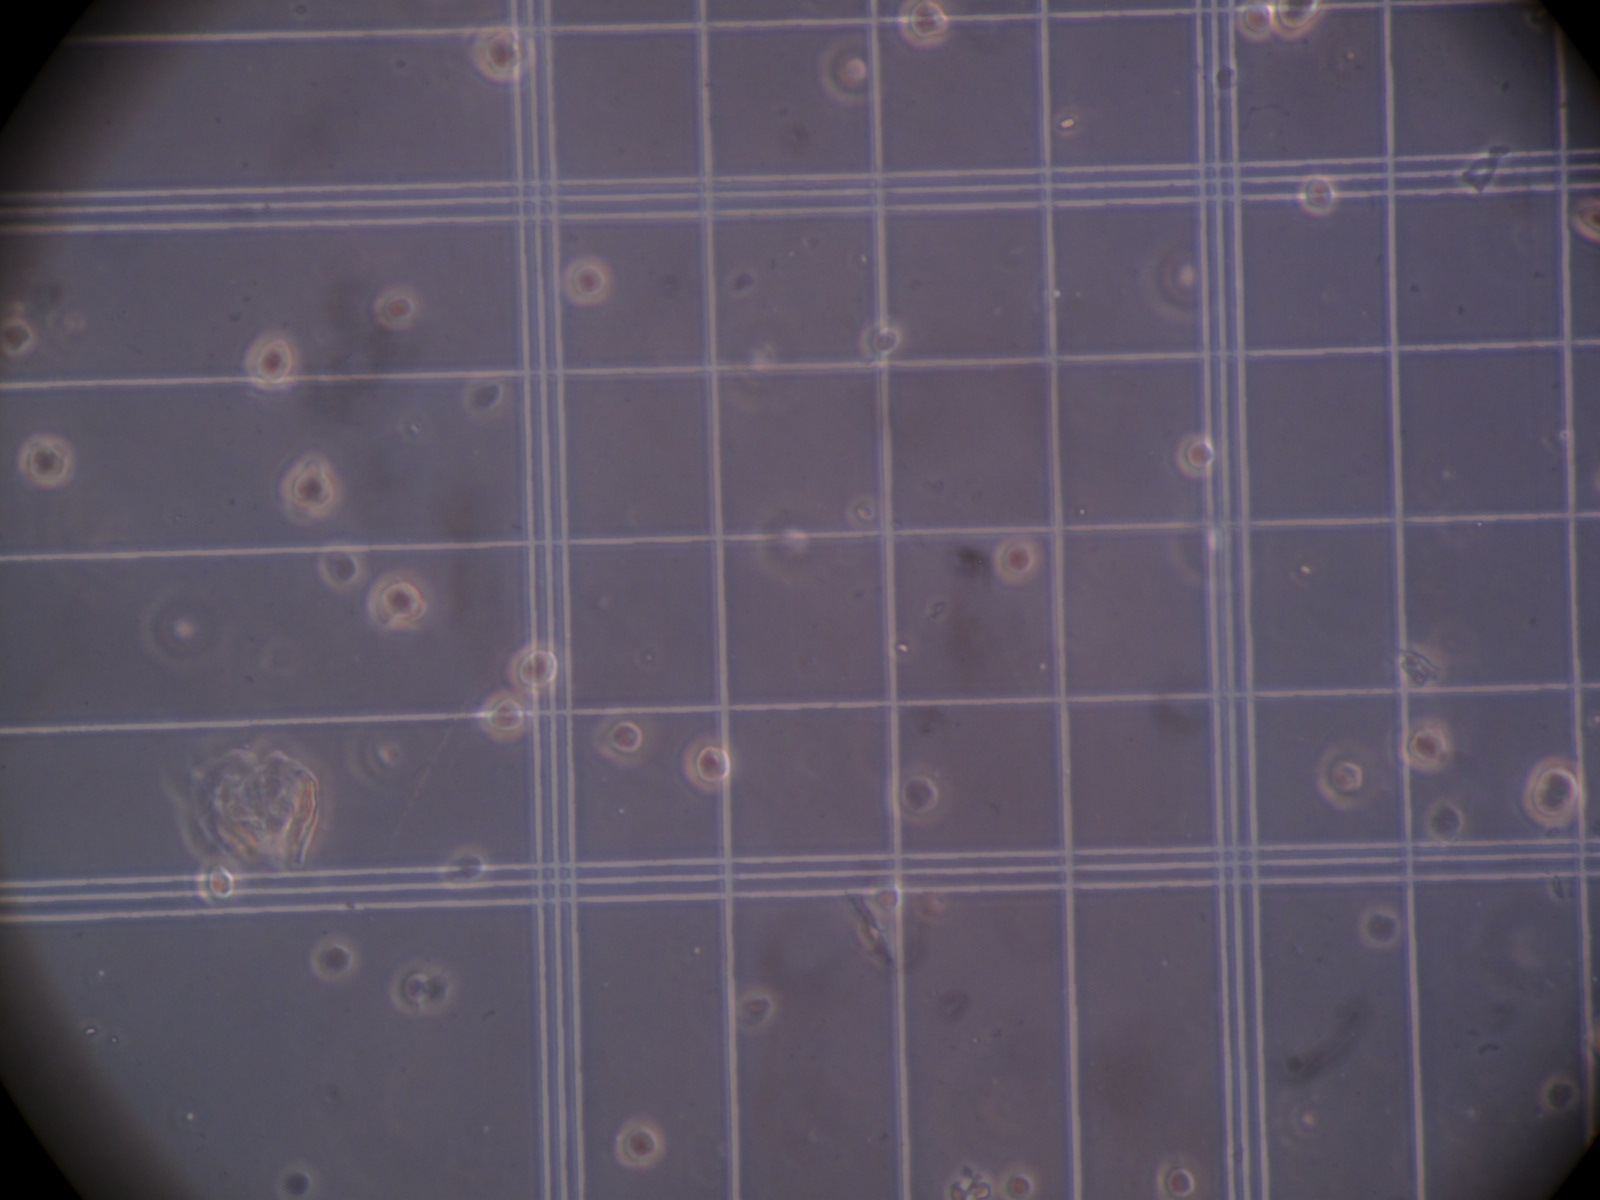hemo: (1141, 231, 1201, 325), (883, 760, 950, 823), (278, 456, 345, 519), (1526, 756, 1586, 826), (367, 571, 433, 632), (472, 23, 535, 83), (1317, 741, 1371, 811), (593, 708, 656, 766), (682, 734, 740, 794), (819, 42, 872, 106), (504, 642, 562, 695), (246, 332, 297, 391), (1398, 720, 1453, 774), (480, 688, 530, 745), (20, 434, 72, 483), (615, 1118, 665, 1167), (897, 1, 950, 47), (991, 537, 1042, 584), (311, 934, 358, 983), (438, 845, 488, 891), (566, 255, 611, 305), (195, 855, 237, 909), (860, 319, 905, 369), (319, 543, 363, 594), (1270, 1, 1324, 42), (370, 287, 420, 332), (1157, 1155, 1203, 1200), (464, 376, 511, 420), (388, 964, 430, 1012), (1358, 904, 1401, 949), (1426, 799, 1466, 847), (1175, 430, 1214, 479), (1296, 175, 1338, 218), (1538, 1073, 1579, 1114), (740, 991, 775, 1031), (1002, 1165, 1041, 1200), (1, 318, 35, 357), (1572, 197, 1600, 243), (1238, 5, 1271, 42), (869, 884, 905, 915)
